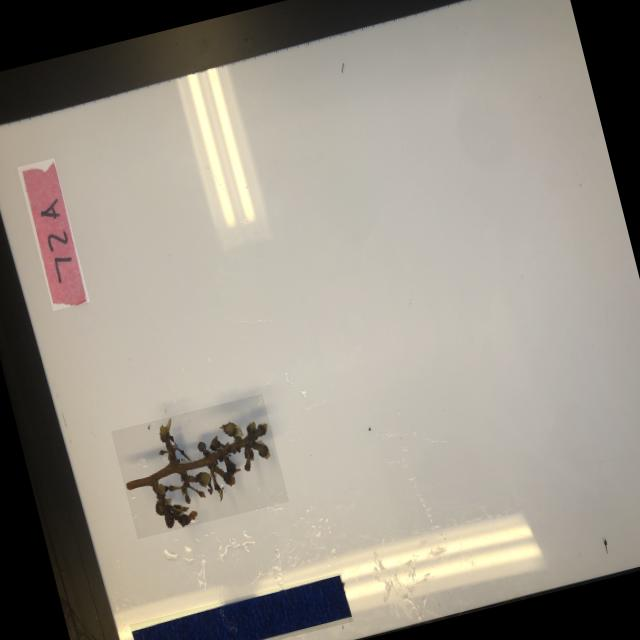index: (16, 156, 90, 310)
measure_label: (128, 570, 352, 640)
rachis_cluster: (110, 392, 288, 538)
